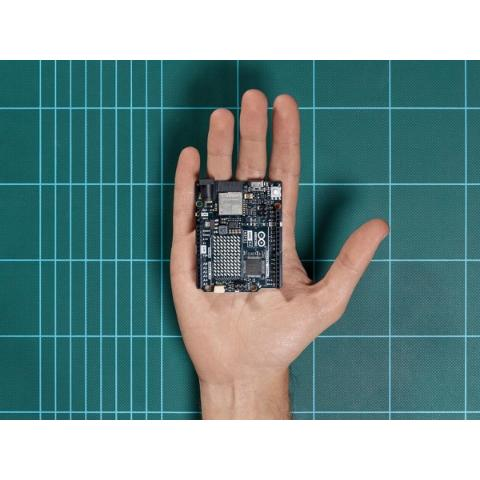Arduino-Uno: (190, 176, 288, 296)
